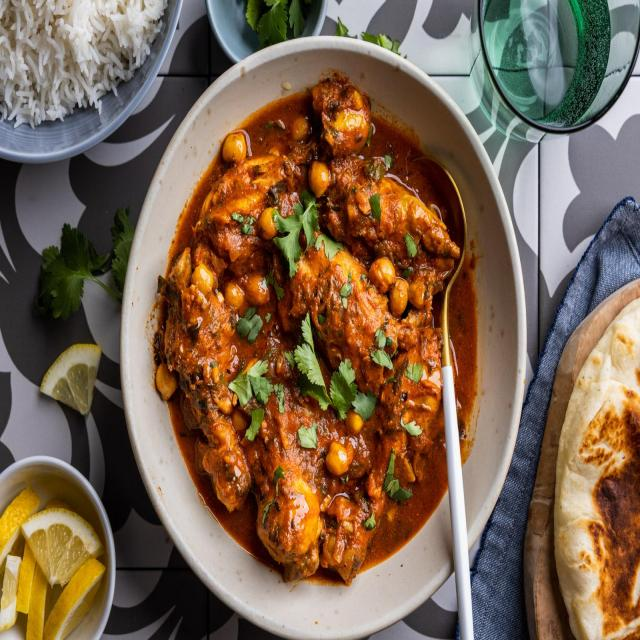chicken: (172, 111, 479, 564)
rice: (8, 9, 148, 123)
roti: (572, 315, 640, 640)
